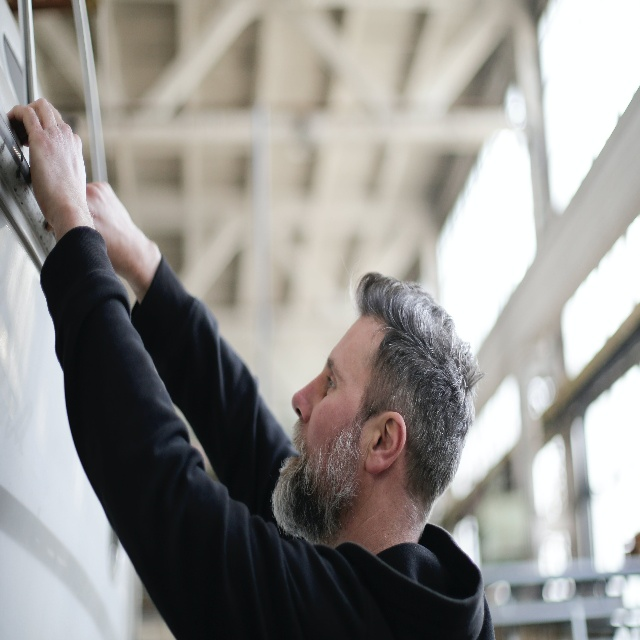Sin_guantes: (5, 98, 86, 212), (85, 178, 135, 277)
